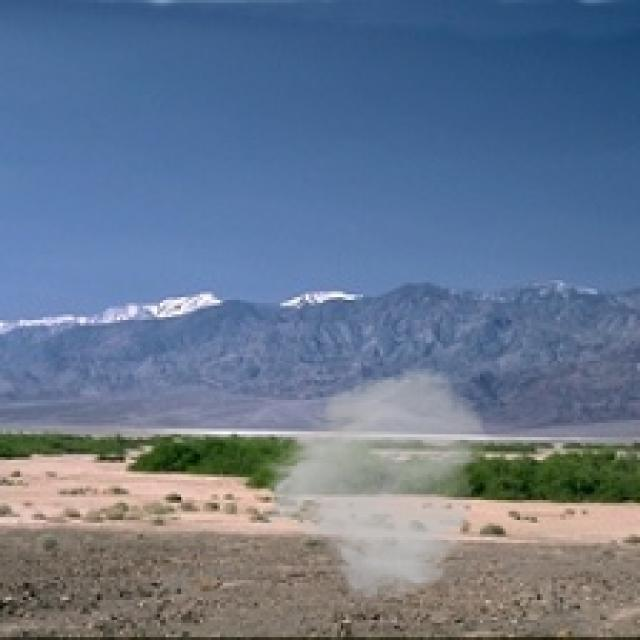smoke: (257, 366, 489, 603)
